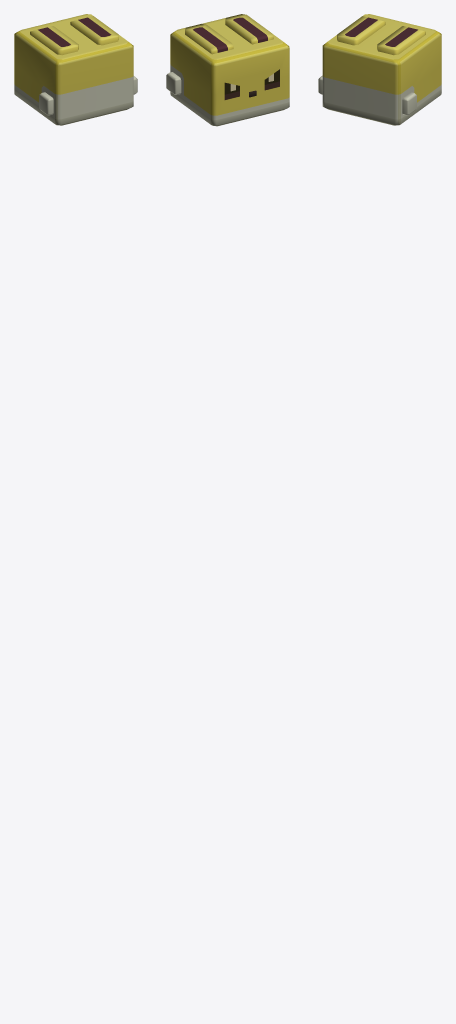
The model's file is G_makeover_S_12.fbx.
3 renders of one model, left to right at view 1: azimuth 30°, elevation 25°; view 2: azimuth 210°, elevation 25°; view 3: azimuth 330°, elevation 25°, orthographic.
Parts seen in each view (by area): view 1: thunders_model; view 2: thunders_model; view 3: thunders_model.
Boxes of the visible parts, x1,y1,x2,y2 form: thunders_model: (14, 14, 137, 125); thunders_model: (166, 14, 289, 126); thunders_model: (318, 14, 441, 125).
Size of the model in its own units: 3.14 by 32.33 by 2.73.
